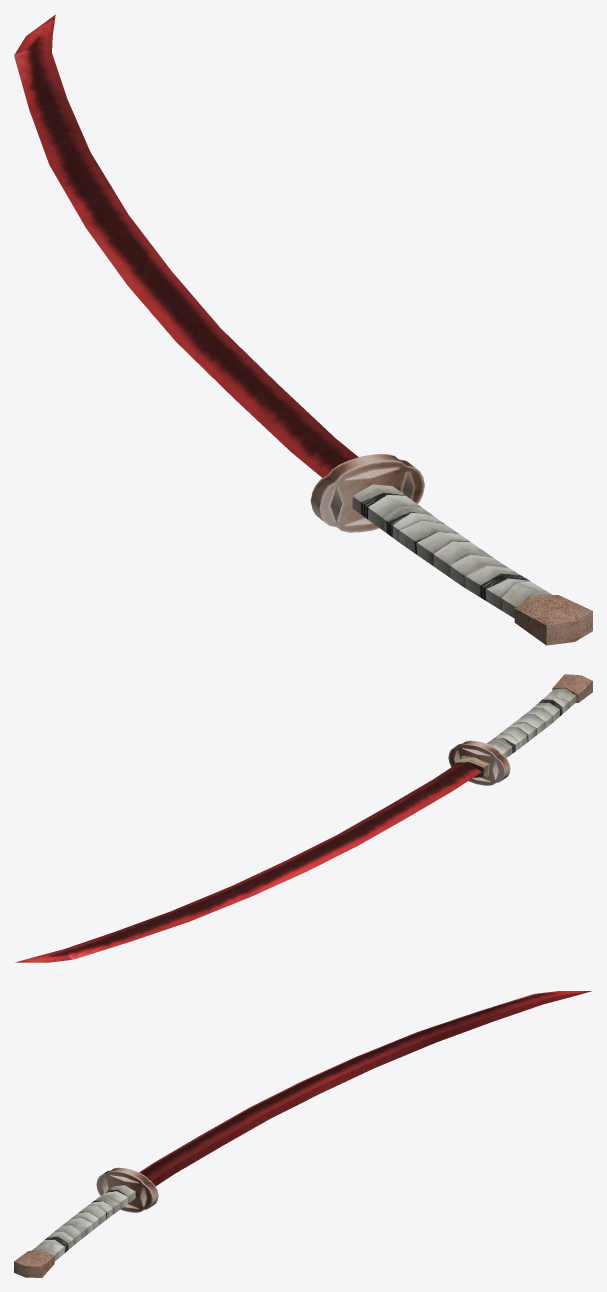
File: sword_boro_boro_fire.glb
The picture shows the model from 3 angles, top to bottom: view 1: azimuth 30°, elevation 25°; view 2: azimuth 150°, elevation 25°; view 3: azimuth 330°, elevation 25°; orthographic projection. The views are drawn at different scales.
Size of the model in its own units: 0.373 by 0.0777 by 1.6.
Materials: 1 (1 with a texture image).
